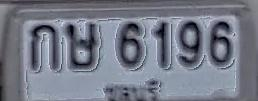1: (154, 20, 168, 68)
6: (118, 21, 142, 67), (208, 19, 231, 66)
9: (178, 20, 201, 66)
A01: (29, 24, 60, 70)
A39: (65, 22, 98, 70)
CBI: (99, 76, 166, 101)
